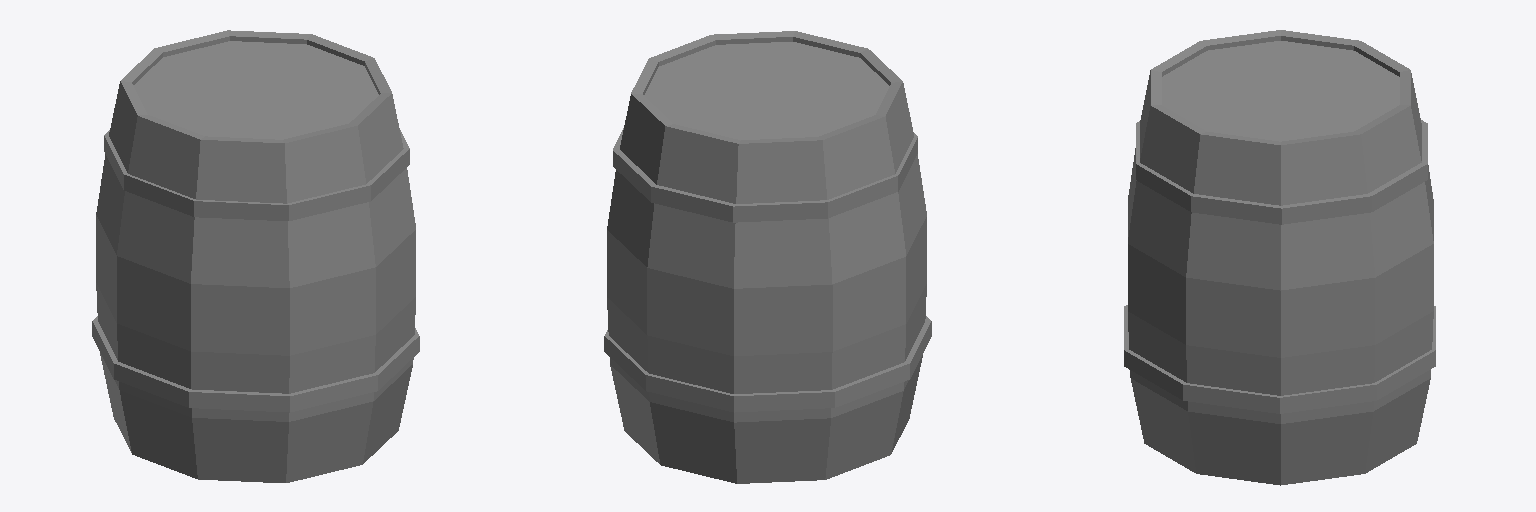
Rendered from barrel.obj.
3 views of the same model, side by side, from view 1: azimuth 30°, elevation 25°; view 2: azimuth 150°, elevation 25°; view 3: azimuth 270°, elevation 25° (orthographic).
Parts seen in each view (by area): view 1: Cylinder01; view 2: Cylinder01; view 3: Cylinder01.
Boxes of the visible parts, <box> form: Cylinder01: <box>92,30,419,482</box>; Cylinder01: <box>604,31,931,483</box>; Cylinder01: <box>1124,30,1435,485</box>.
Bounding box in the file's own units: 37.43 × 42.35 × 35.59.